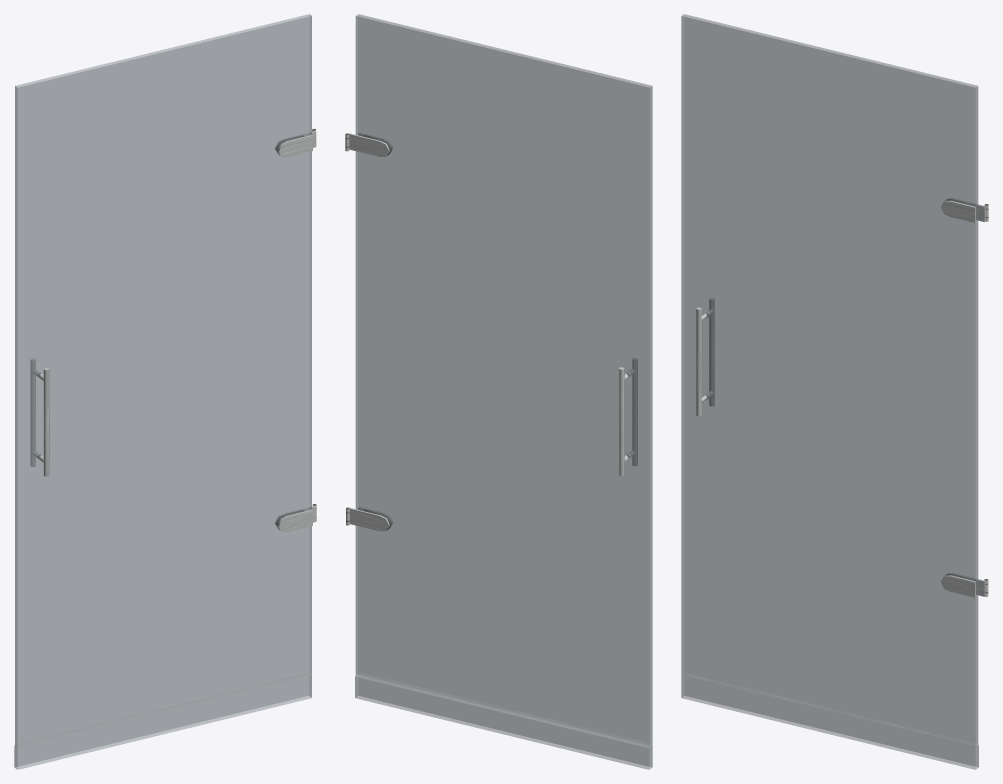
Rendered from Office_Door_Glass.fbx.
3 renders of one model, left to right at view 1: azimuth 30°, elevation 25°; view 2: azimuth 150°, elevation 25°; view 3: azimuth 330°, elevation 25°, orthographic.
Visible parts, largest first — view 1: Office_Door_Glass; view 2: Office_Door_Glass; view 3: Office_Door_Glass.
Boxes of the visible parts, left/top/right/bottom form: Office_Door_Glass: left=14, top=14, right=316, bottom=769; Office_Door_Glass: left=345, top=14, right=652, bottom=769; Office_Door_Glass: left=681, top=14, right=988, bottom=769.
Size of the model in its own units: 97.74 by 210 by 8.93.
